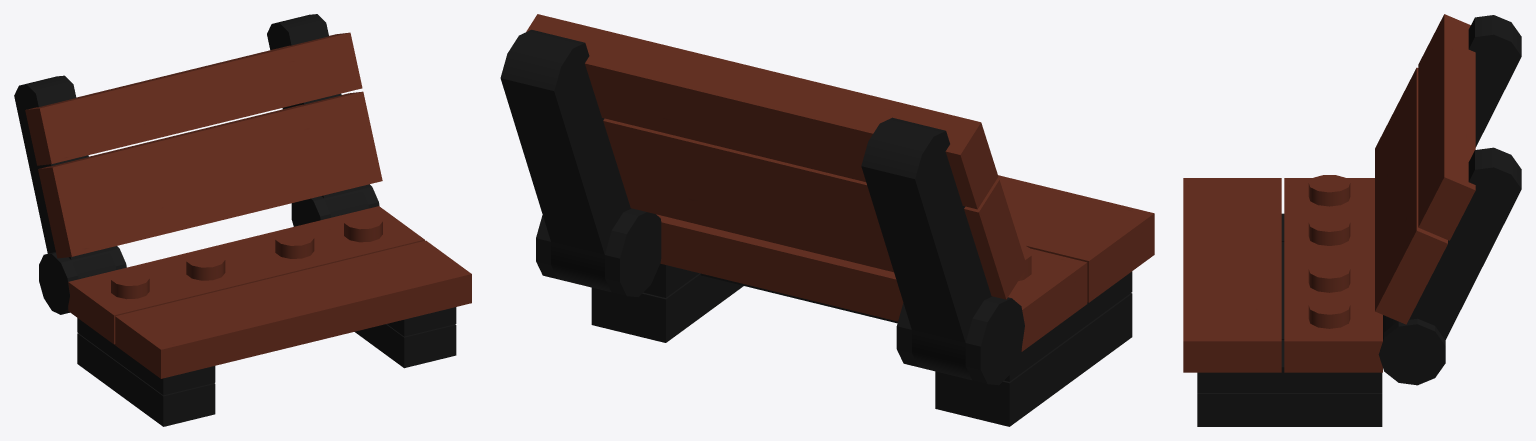
Rendered from bench.FBX.
The picture shows the model from 3 angles, left to right: view 1: azimuth 30°, elevation 25°; view 2: azimuth 150°, elevation 25°; view 3: azimuth 270°, elevation 25°; orthographic projection. The views are drawn at different scales.
Parts seen in each view (by area): view 1: Box007; view 2: Box007; view 3: Box007.
Part boxes in pixels (x1,y1,x2,y2): Box007: (14,14,471,426); Box007: (500,14,1154,426); Box007: (1183,14,1521,426).
Size of the model in its own units: 25.49 by 18.83 by 22.29.
